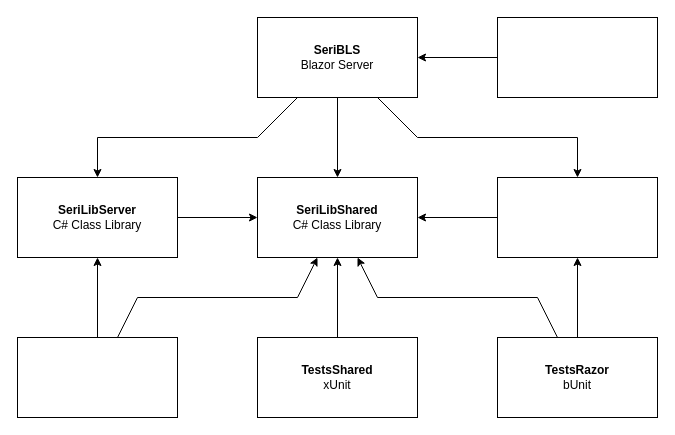
Some shapes in this 675 by 435 pixel diagram are drawn without their labels. The box of each missing label's shape, as (x1, y1, x2, y2) in pixels:
SeriLibRazor Razor Library: (496, 176, 658, 258)
TestsE2E Playwright: (496, 16, 658, 98)
TestsServer xUnit: (16, 336, 178, 418)
